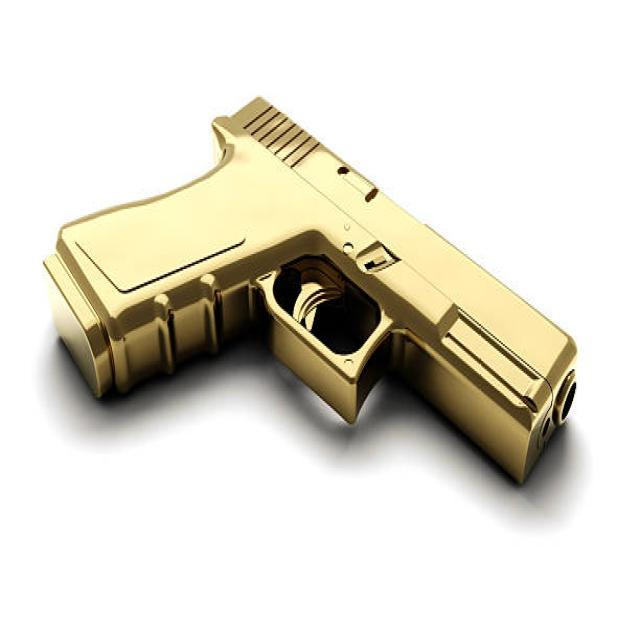pistol: (38, 77, 590, 498)
